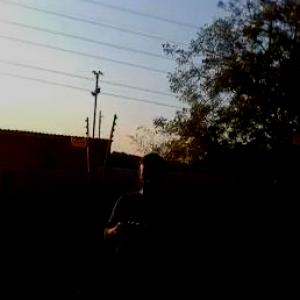follow: (86, 142, 188, 299)
